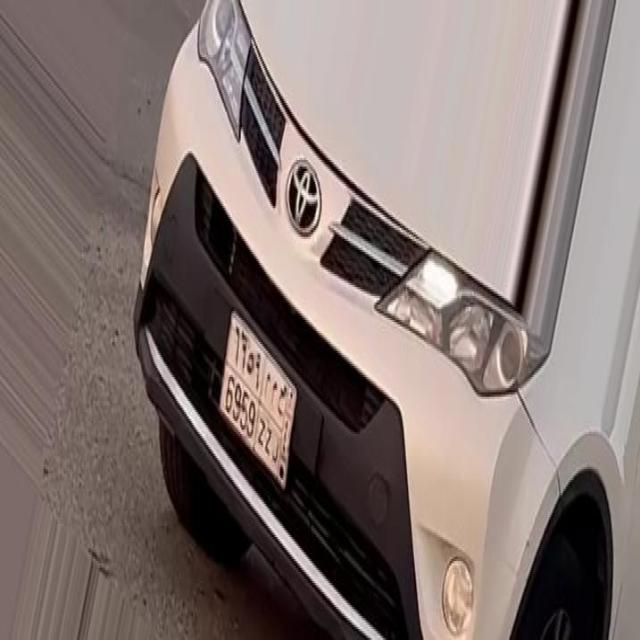Car-plate: (210, 287, 314, 512)
